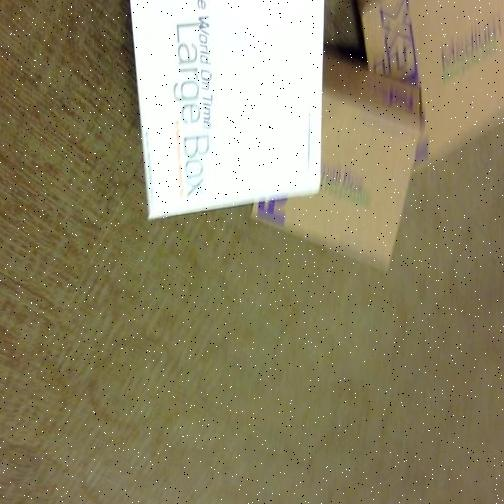Amazon: (122, 0, 333, 208), (367, 0, 504, 147)
